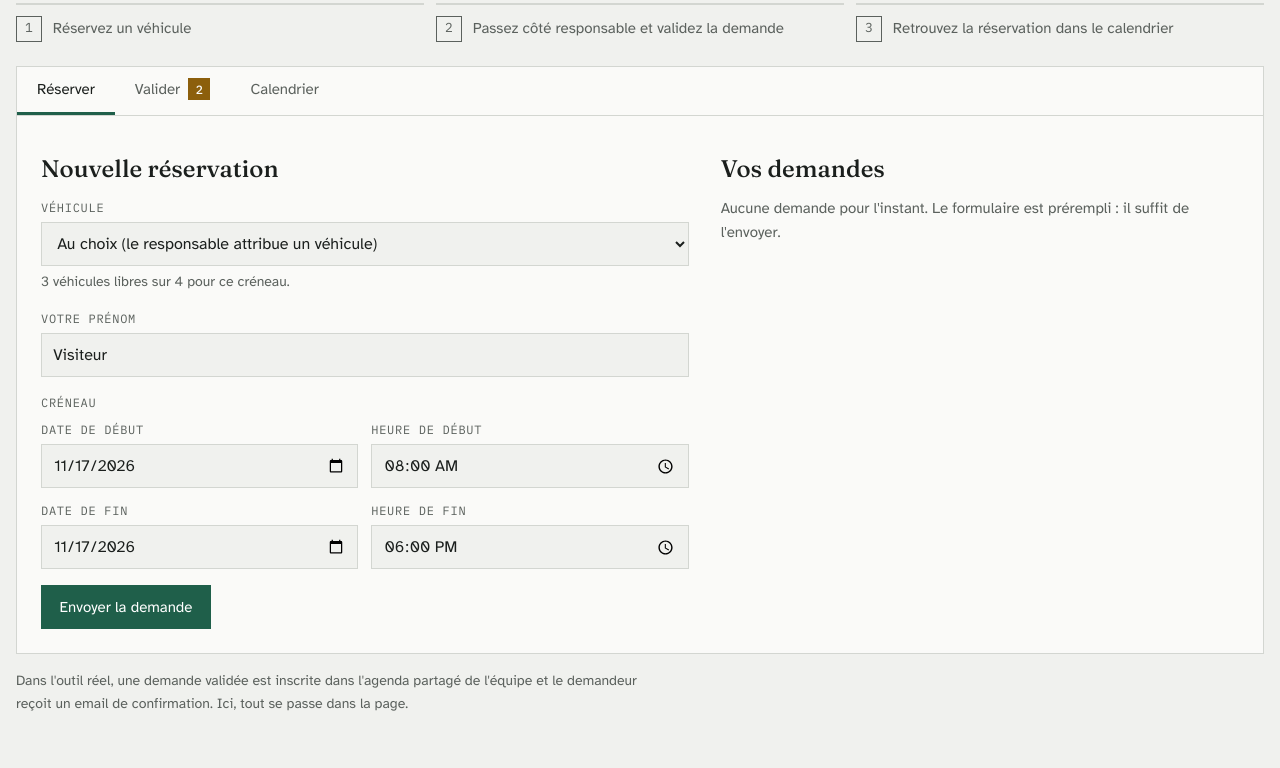
it: démo de réservation › déroule le parcours complet : demande, validation, calendrier
(page scrolled)
// Le formulaire est prérempli : la demande part en un clic.
Click the button "Envoyer la demande". click: click(126, 607)
box: [41,585,211,629]
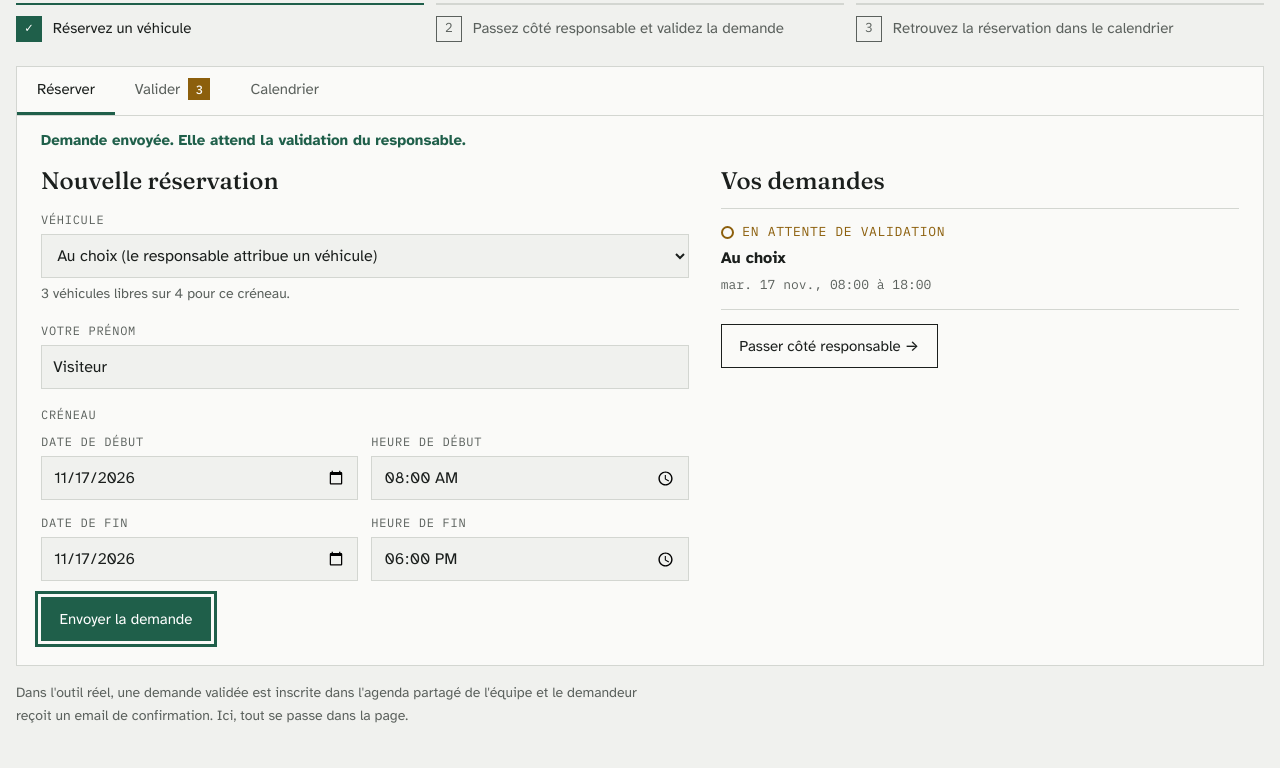
Expected: the message shows "Demande envoyée", [41,131,466,149]
Expected: the text "En attente de validation" is shown, [721,222,945,243]
// Côté responsable, la demande « au choix » reçoit un véhicule libre.
Click the button "Passer côté responsable →". click: click(829, 346)
box: [721,324,938,368]
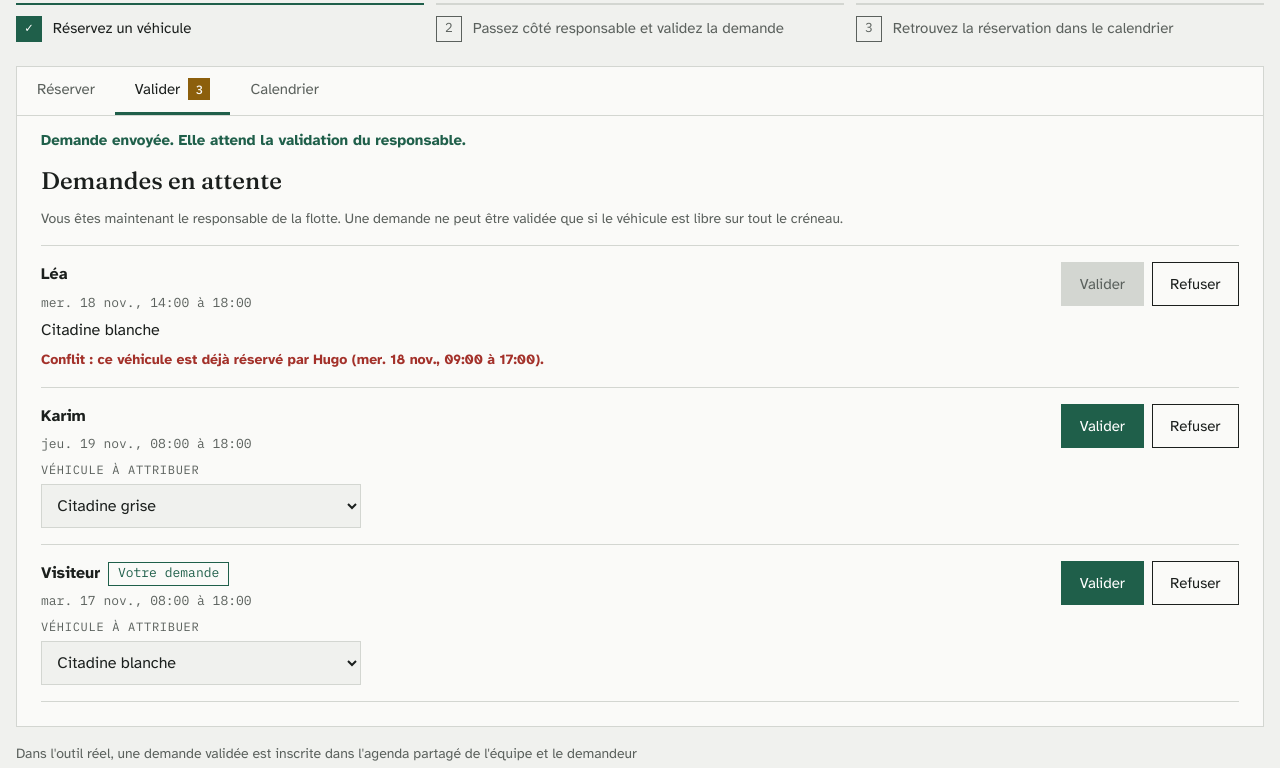
Select "Break bleu" in the dropdown labelled "Véhicule à attribuer" below "mar. 17 nov., 08:00 à 18:00". click: (201, 663)
box: [41,641,361,685]
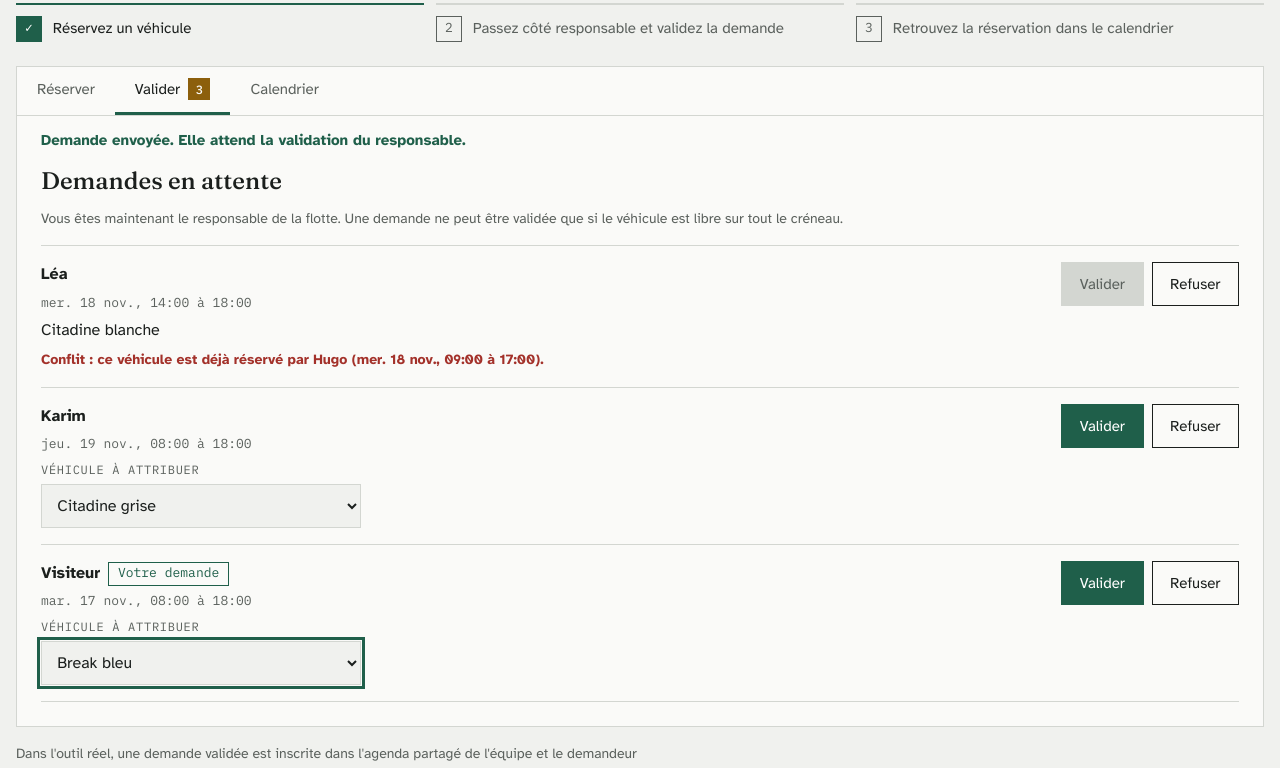
Click the button with aria-label "Valider la demande de Visiteur". click: click(1102, 583)
box: [1061,561,1144,605]
(page scrolled)
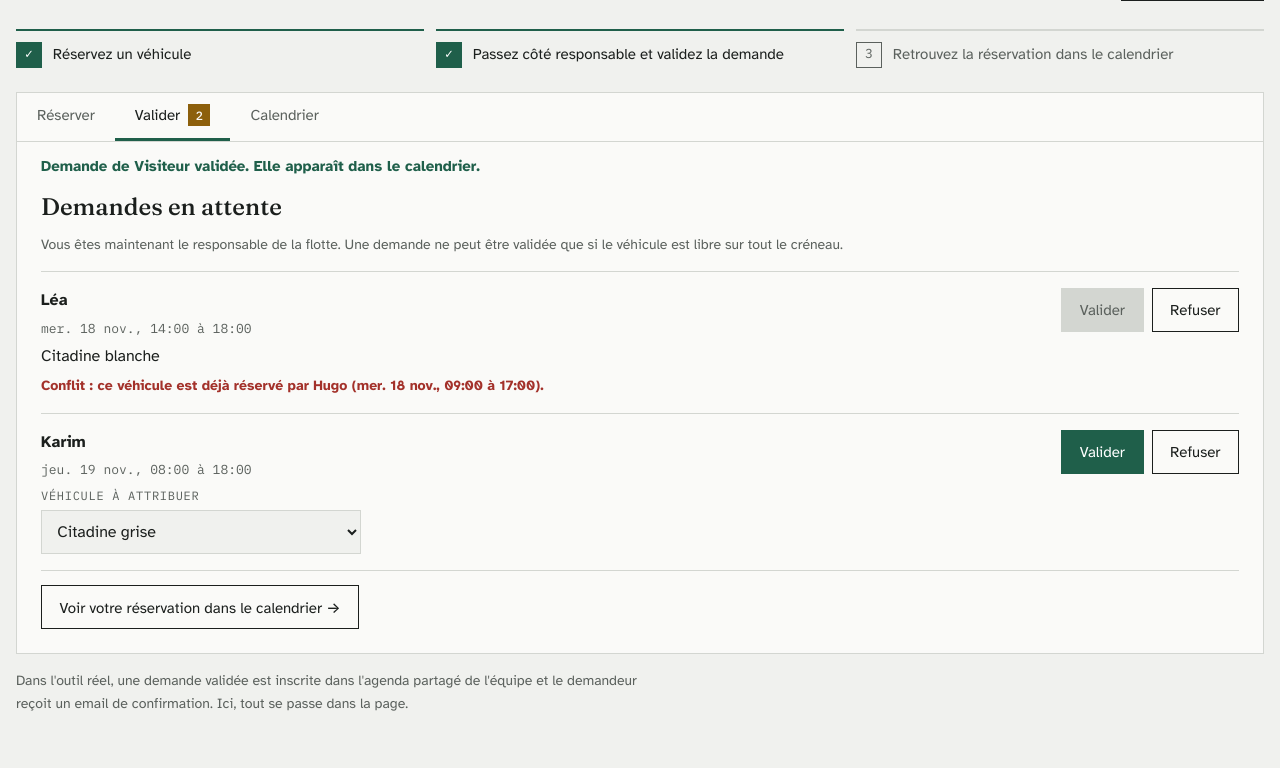
Expected: the message shows "Demande de Visiteur validée", [41,157,480,175]
// La réservation apparaît dans le calendrier, au bon jour.
Click the button "Voir votre réservation dans le calendrier →". click: click(200, 607)
box: [41,585,359,629]
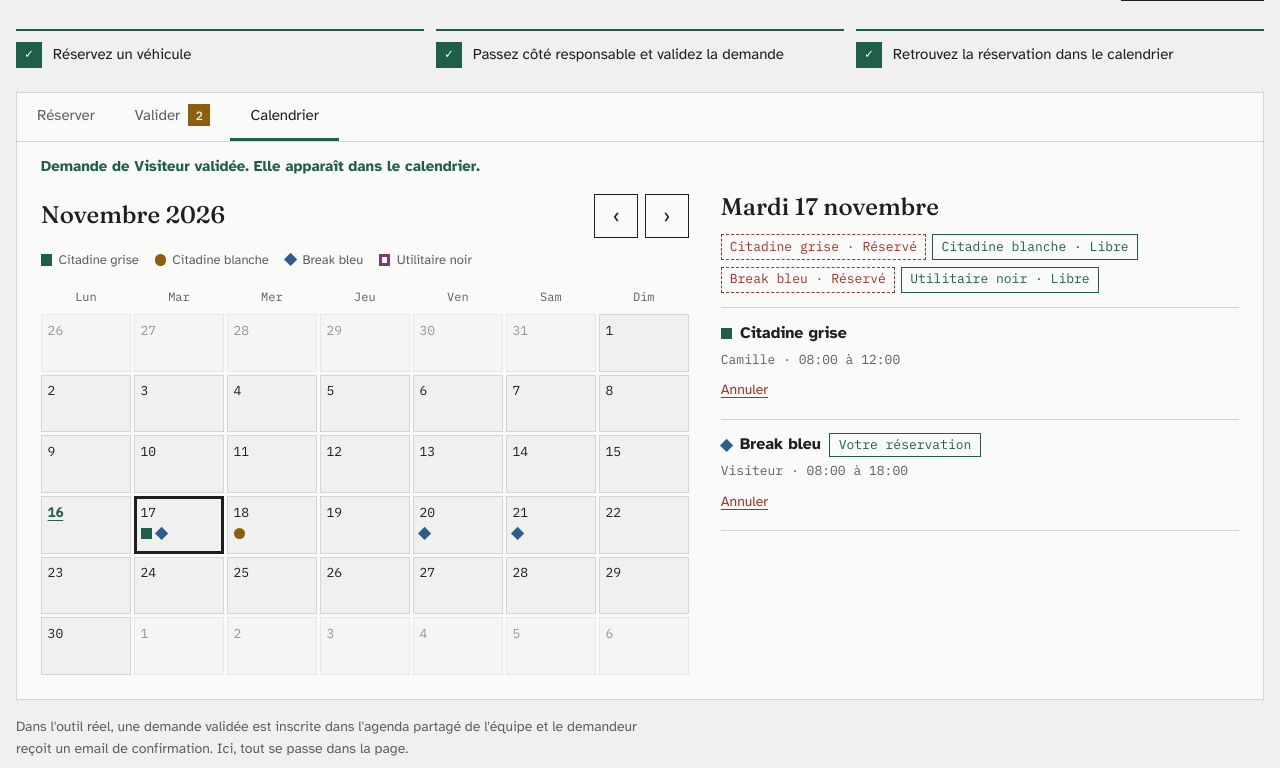
Expected: the text "Votre réservation" is shown, [829,433,981,457]
Expected: the heading "mardi 17 novembre" is shown, [721,194,939,220]
Expected: the list item "Break bleu · Réservé" is shown, [721,267,895,293]
